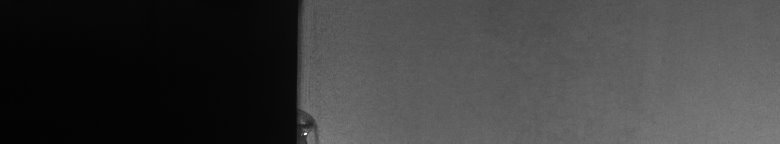hb: (308, 108, 326, 136)
